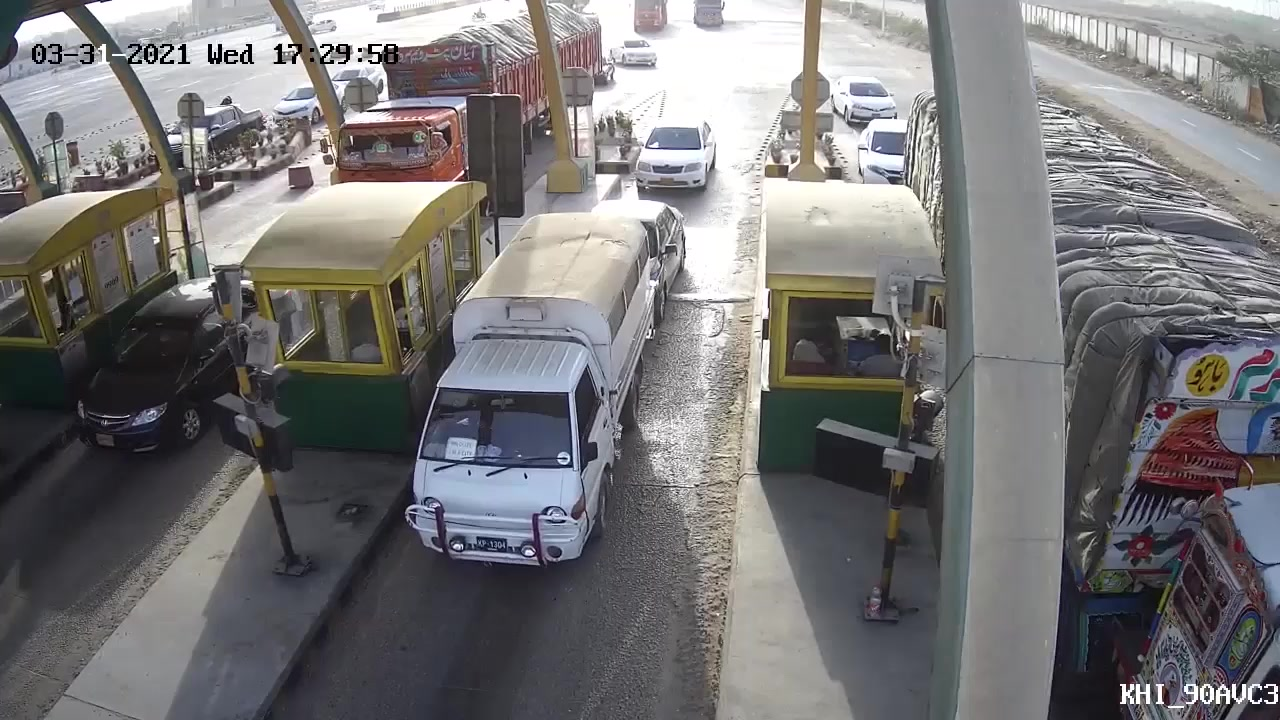F3: (378, 211, 657, 585)
